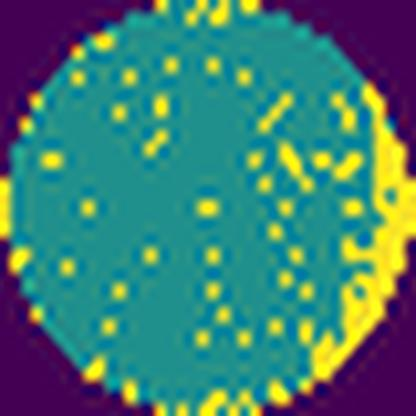Edge-Loc: (299, 78, 415, 416)
